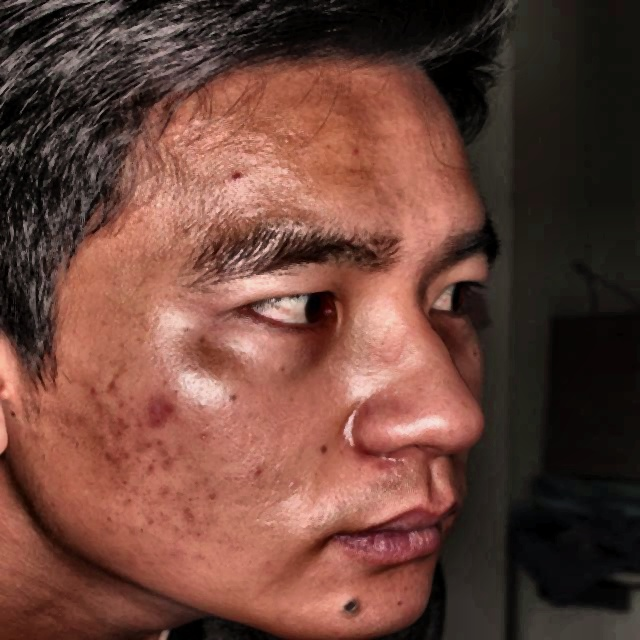comedone: (131, 390, 188, 435)
